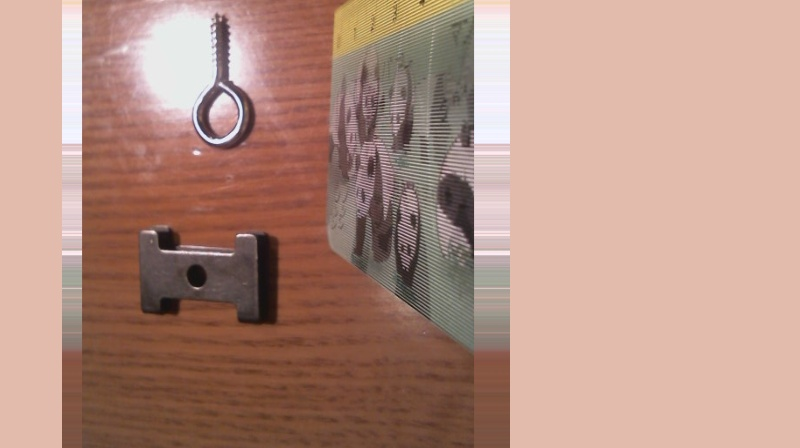O001: (190, 8, 253, 152)
O002: (134, 224, 279, 328)
